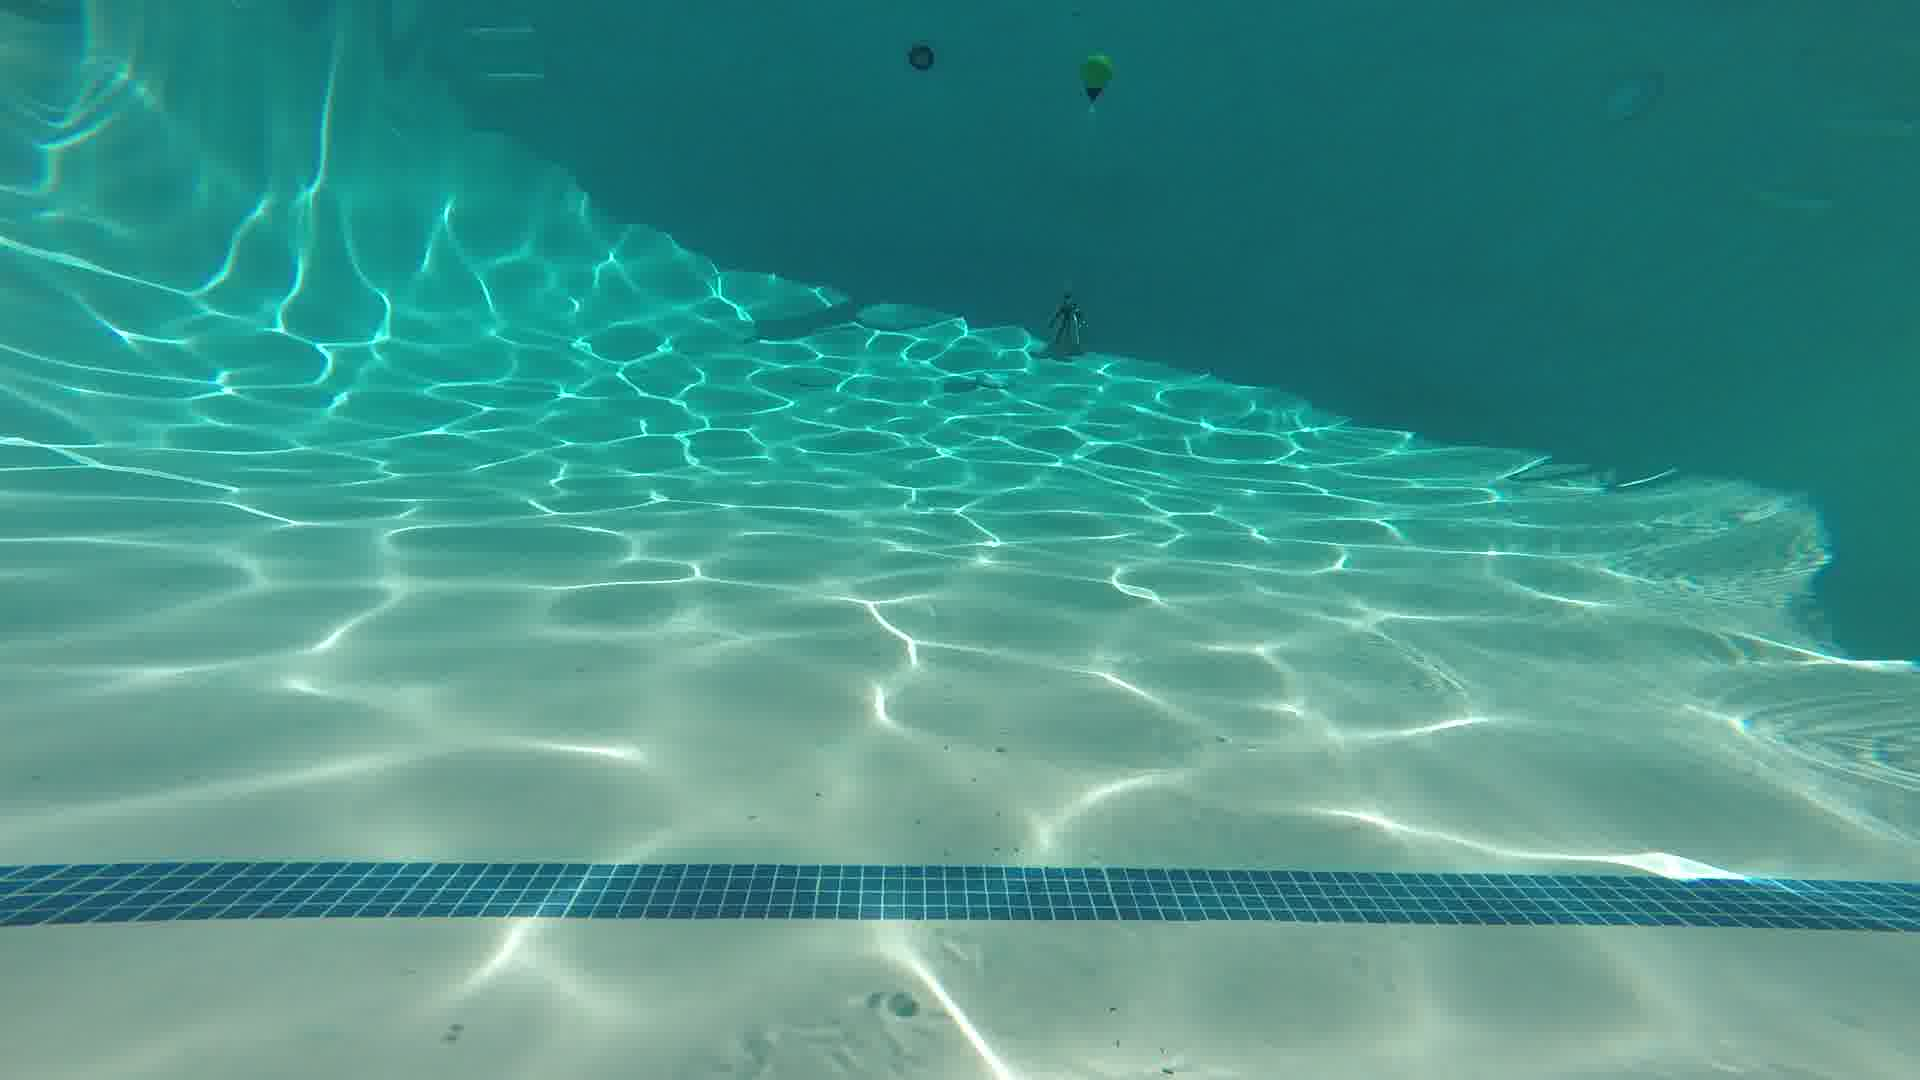yellow_buoy: (1080, 51, 1113, 104)
